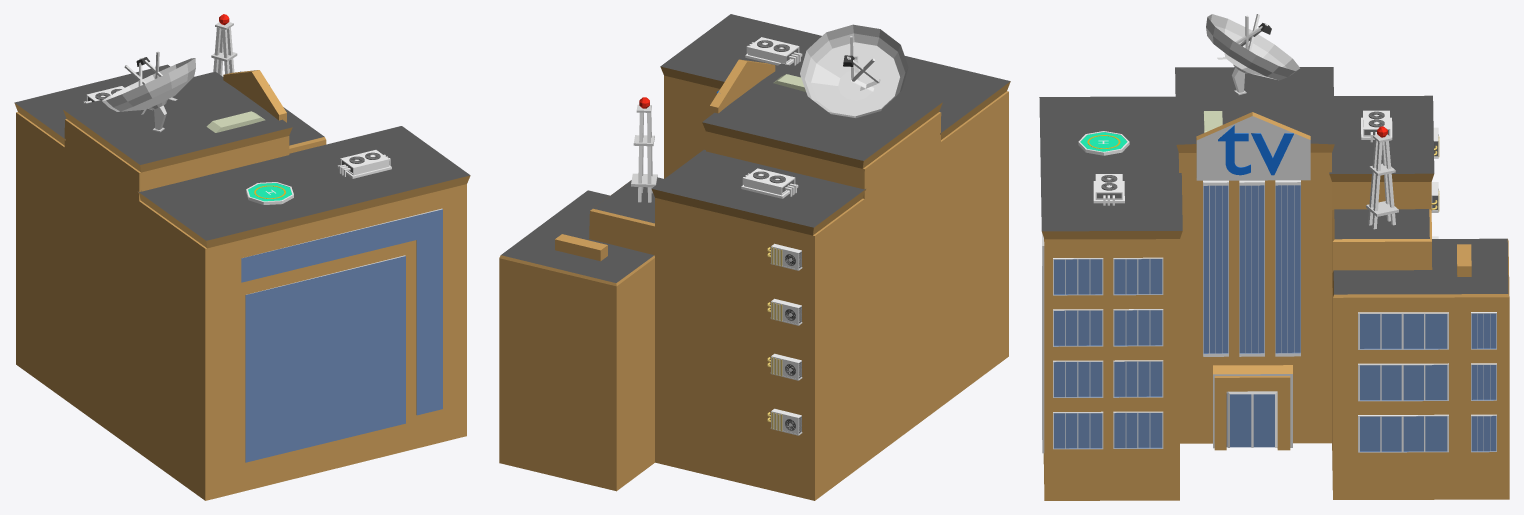
The model's file is TV_Building_tran.glb.
The picture shows the model from 3 angles, left to right: view 1: azimuth 30°, elevation 25°; view 2: azimuth 150°, elevation 25°; view 3: azimuth 270°, elevation 25°; orthographic projection. The views are drawn at different scales.
Parts seen in each view (by area): view 1: Plane.196, Cube.11583, Plane.1865, Circle.102, Cube.13891, Cube.13746, Cube.776, Plane.197; view 2: Plane.196, Circle.102, Cube.13893, Cube.13892, Cube.13891, Cube.776; view 3: Plane.196, Window1.002, Window1.004, Window1.003, Circle.102, Plane.1883, Text.045, Cube.776, Cube.13746, Cube.13891, Cube.13892, Cube.13896 (+1 smaller).
Part boxes in pixels (x1,y1,x2,y2): Plane.196: (14,64,470,500); Cube.11583: (245,255,405,462); Plane.1865: (241,208,442,415); Circle.102: (102,58,195,111); Cube.13891: (337,150,391,178); Cube.13746: (246,182,293,204); Cube.776: (213,27,234,75); Plane.197: (206,111,265,132); Plane.196: (499,14,1010,500); Circle.102: (800,24,908,117); Cube.13893: (767,243,802,435); Cube.13892: (741,168,798,198); Cube.13891: (745,37,802,65); Cube.776: (638,112,652,202); Plane.196: (1039,67,1509,500); Window1.002: (1053,257,1163,449); Window1.004: (1203,180,1300,356); Window1.003: (1358,312,1496,452); Circle.102: (1206,14,1300,80); Plane.1883: (1214,376,1290,450); Text.045: (1218,125,1293,175); Cube.776: (1368,139,1395,229); Cube.13746: (1078,131,1129,155); Cube.13891: (1093,174,1124,205); Cube.13892: (1361,110,1392,142); Cube.13896: (1227,391,1277,447).
Size of the model in its own units: 0.389 by 0.5059 by 0.5702.
